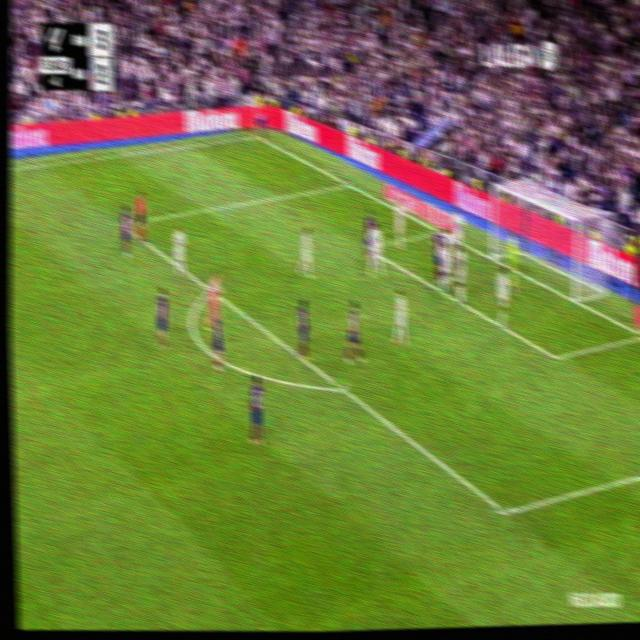bigarea_bottom_inner: (495, 495, 514, 528)
bigarea_top_outter: (340, 174, 353, 190)
bottom_arc_area_intersection: (333, 377, 349, 397)
corner: (249, 129, 262, 140)
smallarea_bottom_inner: (548, 345, 562, 368)
smallarea_bottom_outter: (635, 326, 640, 344)
top_arc_area_intersection: (205, 281, 215, 297)
